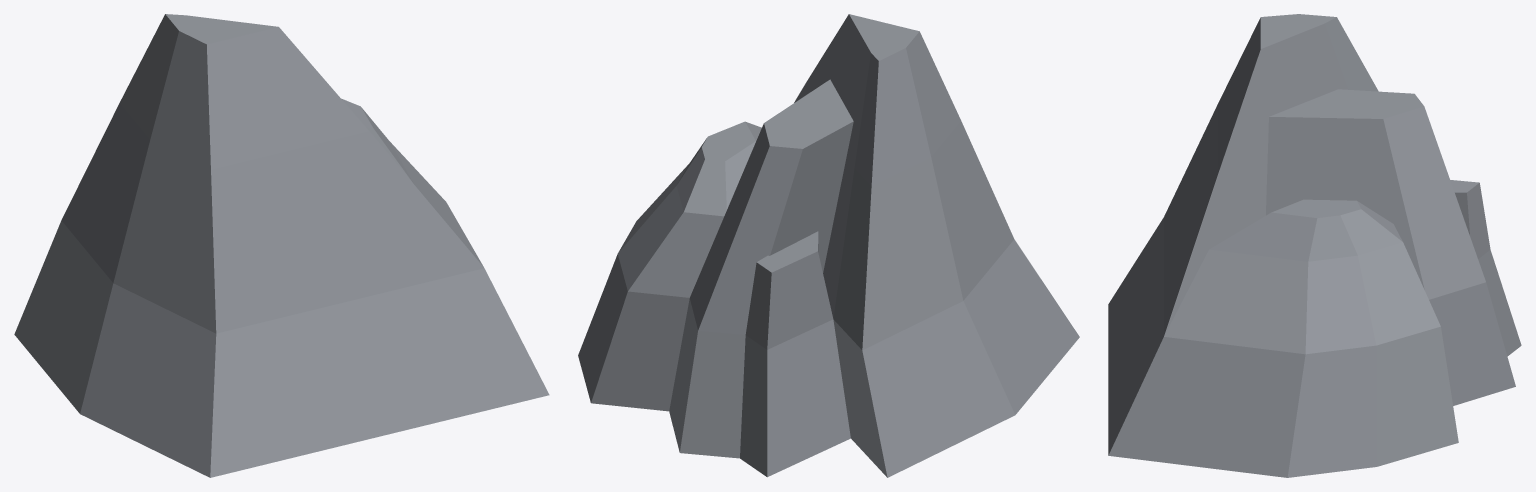
Rendered from Rock_v11.fbx.
3 views of the same model, side by side, from view 1: azimuth 30°, elevation 25°; view 2: azimuth 150°, elevation 25°; view 3: azimuth 270°, elevation 25° (orthographic). The views are drawn at different scales.
Visible parts, largest first — view 1: Rock_v11; view 2: Rock_v11; view 3: Rock_v11.
Part boxes in pixels (box(x1,y1,x2,y2)): Rock_v11: box(14, 14, 549, 477); Rock_v11: box(578, 14, 1079, 477); Rock_v11: box(1108, 14, 1521, 477).
Bounding box in the file's own units: 43.61 × 35.11 × 40.51.
1 material, 1 textured.
